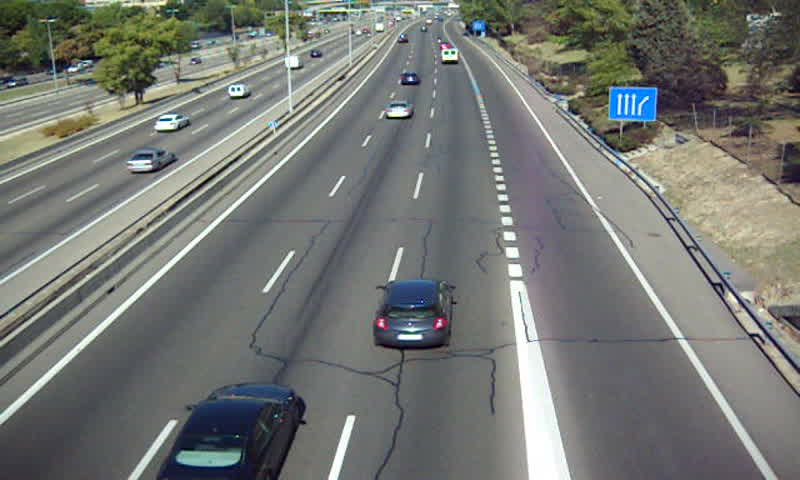car: (157, 383, 297, 480), (372, 280, 452, 346), (384, 100, 413, 121), (400, 72, 420, 88)
van: (441, 47, 459, 64)
